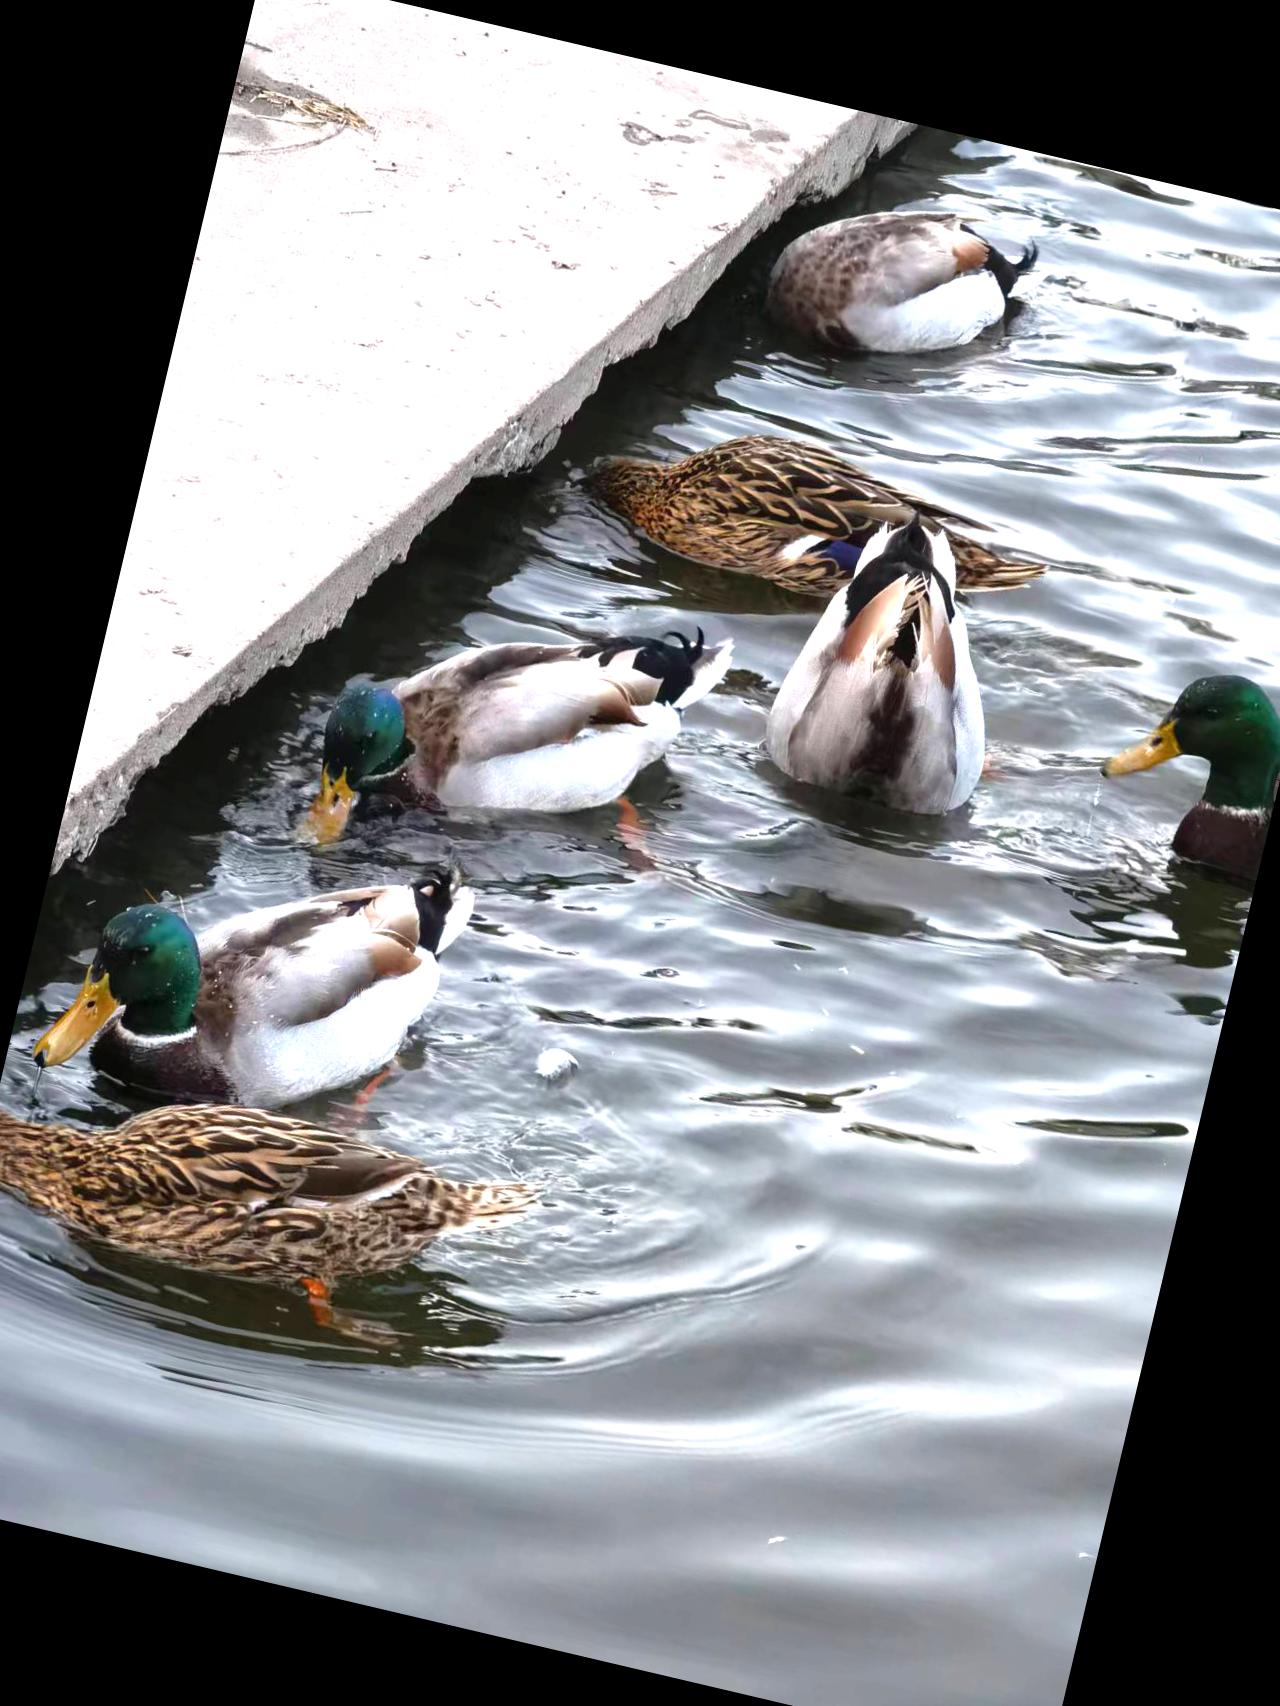duck: (0, 1031, 563, 1386), (276, 536, 749, 949), (27, 768, 495, 1160), (538, 366, 1094, 676), (733, 477, 1066, 847), (1037, 626, 1280, 998), (735, 165, 1076, 407)
